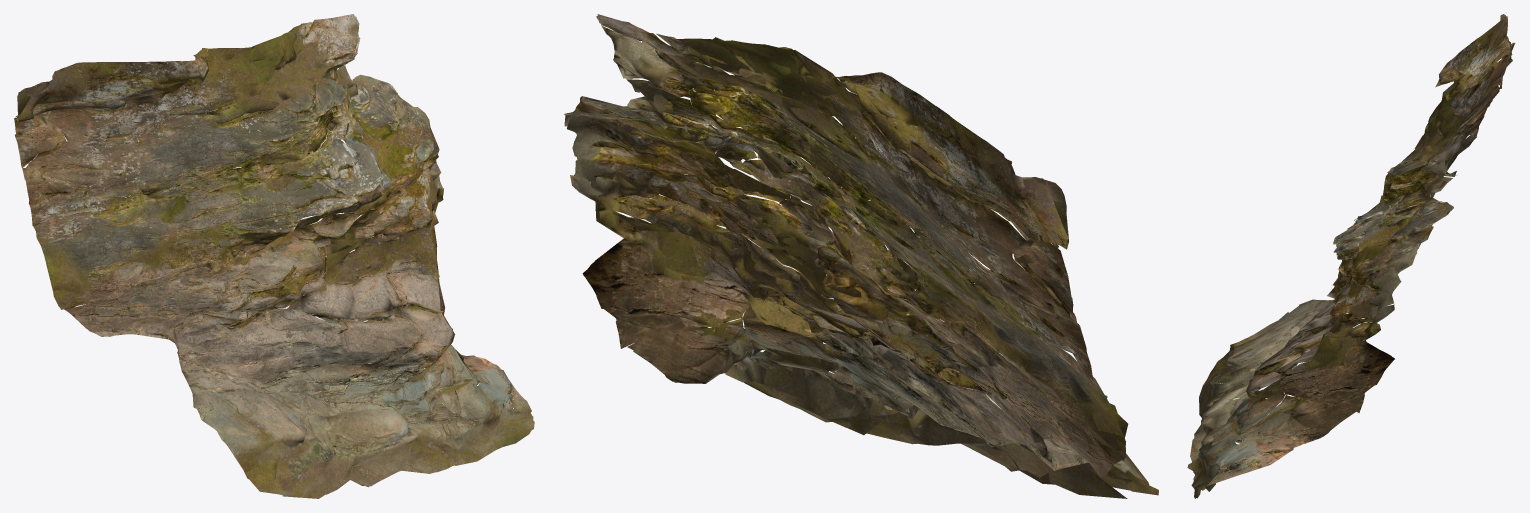
Rendered from rock_face_02.glb.
The picture shows the model from 3 angles, left to right: view 1: azimuth 30°, elevation 25°; view 2: azimuth 150°, elevation 25°; view 3: azimuth 270°, elevation 25°; orthographic projection. The views are drawn at different scales.
Parts seen in each view (by area): view 1: rock_face_02_v0_near, rock_face_02_v0_far; view 2: rock_face_02_v0_near, rock_face_02_v0_far; view 3: rock_face_02_v0_near, rock_face_02_v0_far.
Part boxes in pixels (left/top/right/bottom): rock_face_02_v0_near: left=14, top=16, right=534, bottom=498; rock_face_02_v0_far: left=14, top=14, right=533, bottom=498; rock_face_02_v0_near: left=564, top=15, right=1158, bottom=494; rock_face_02_v0_far: left=567, top=14, right=1157, bottom=498; rock_face_02_v0_near: left=1187, top=14, right=1515, bottom=498; rock_face_02_v0_far: left=1192, top=16, right=1514, bottom=491.
Bounding box in the file's own units: 2.71 × 2.5 × 2.13.
1 material, 1 textured.
